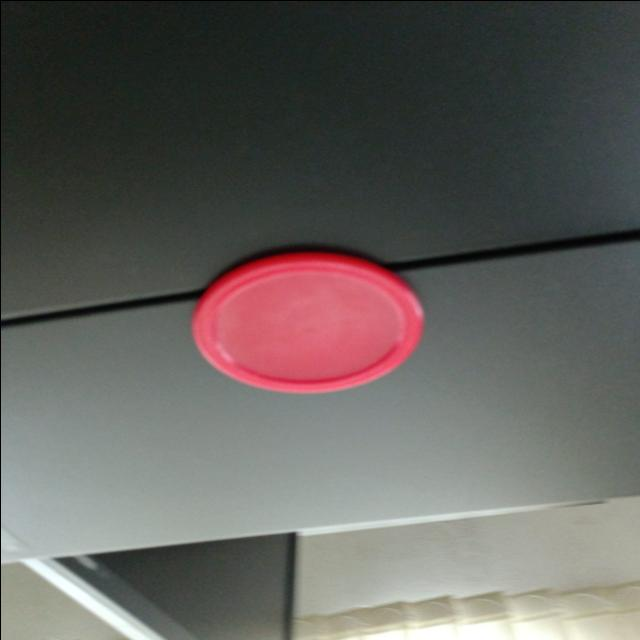chip: (182, 247, 428, 397)
